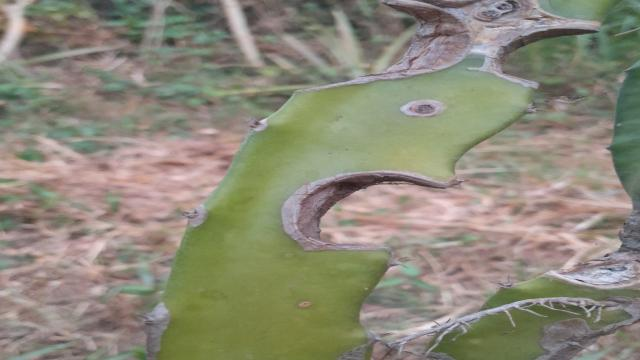stemcanker: (394, 95, 449, 122), (292, 298, 315, 311)
